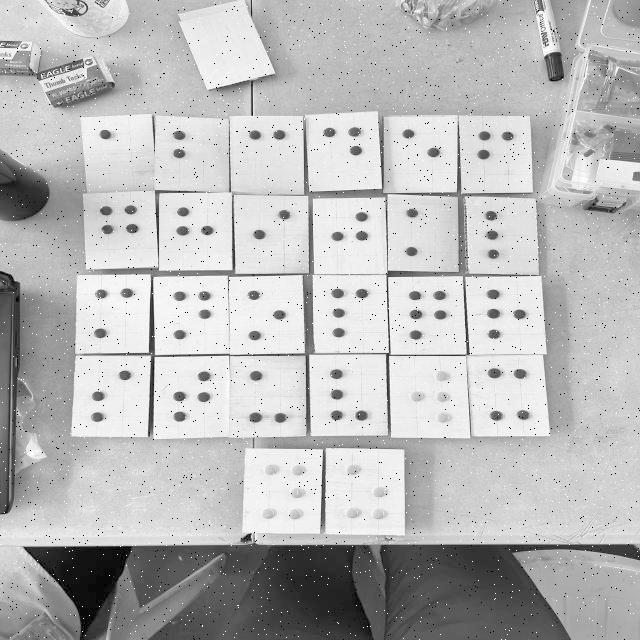A: (81, 115, 154, 193)
B: (155, 116, 229, 192)
C: (230, 116, 305, 195)
D: (306, 112, 381, 190)
E: (383, 115, 458, 193)
F: (459, 116, 533, 193)
G: (84, 191, 159, 270)
H: (159, 193, 233, 270)
I: (233, 195, 310, 274)
J: (314, 198, 387, 274)
K: (387, 196, 459, 273)
L: (465, 197, 539, 275)
M: (76, 275, 151, 353)
N: (154, 277, 229, 354)
O: (230, 276, 305, 353)
P: (313, 275, 389, 352)
Q: (389, 276, 466, 354)
R: (466, 277, 546, 354)
S: (73, 356, 150, 436)
T: (154, 356, 229, 439)
U: (229, 356, 307, 437)
V: (310, 355, 387, 436)
W: (389, 356, 470, 438)
X: (467, 355, 550, 436)
Y: (243, 448, 323, 533)
Z: (325, 448, 404, 535)
